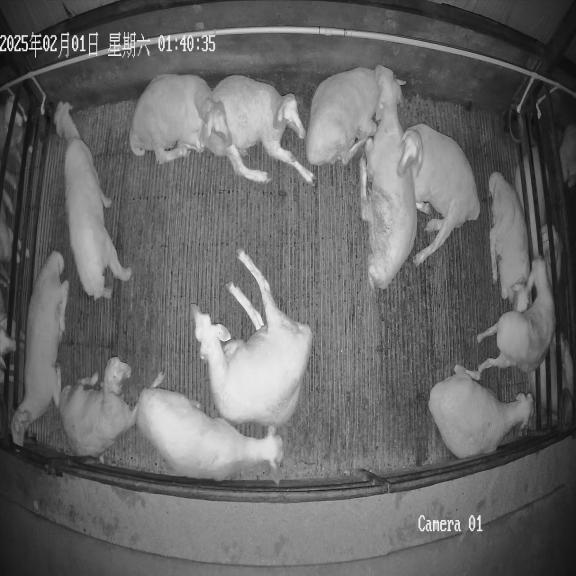lying: (192, 250, 313, 431), (360, 66, 417, 289), (397, 124, 480, 266), (206, 75, 313, 183), (11, 251, 69, 445), (429, 365, 533, 459), (129, 74, 229, 164), (306, 66, 393, 165), (58, 357, 137, 458), (488, 172, 529, 310)
stand: (136, 374, 283, 482), (54, 102, 132, 299), (477, 258, 555, 374)
